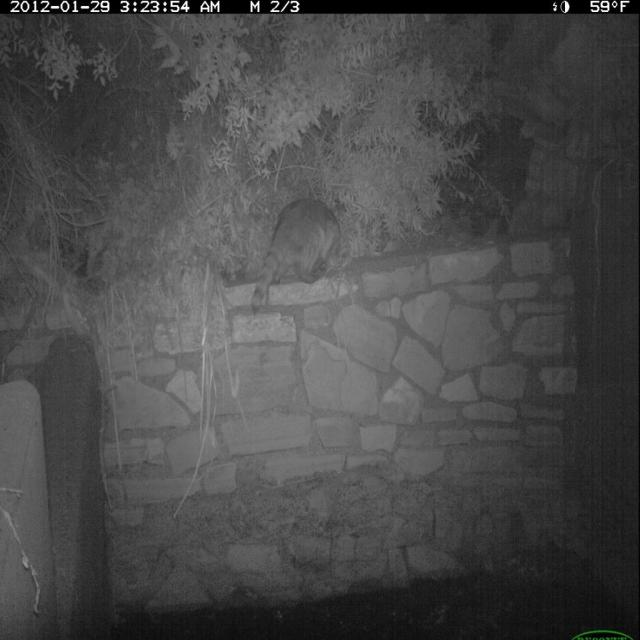raccoon: (246, 193, 349, 325)
